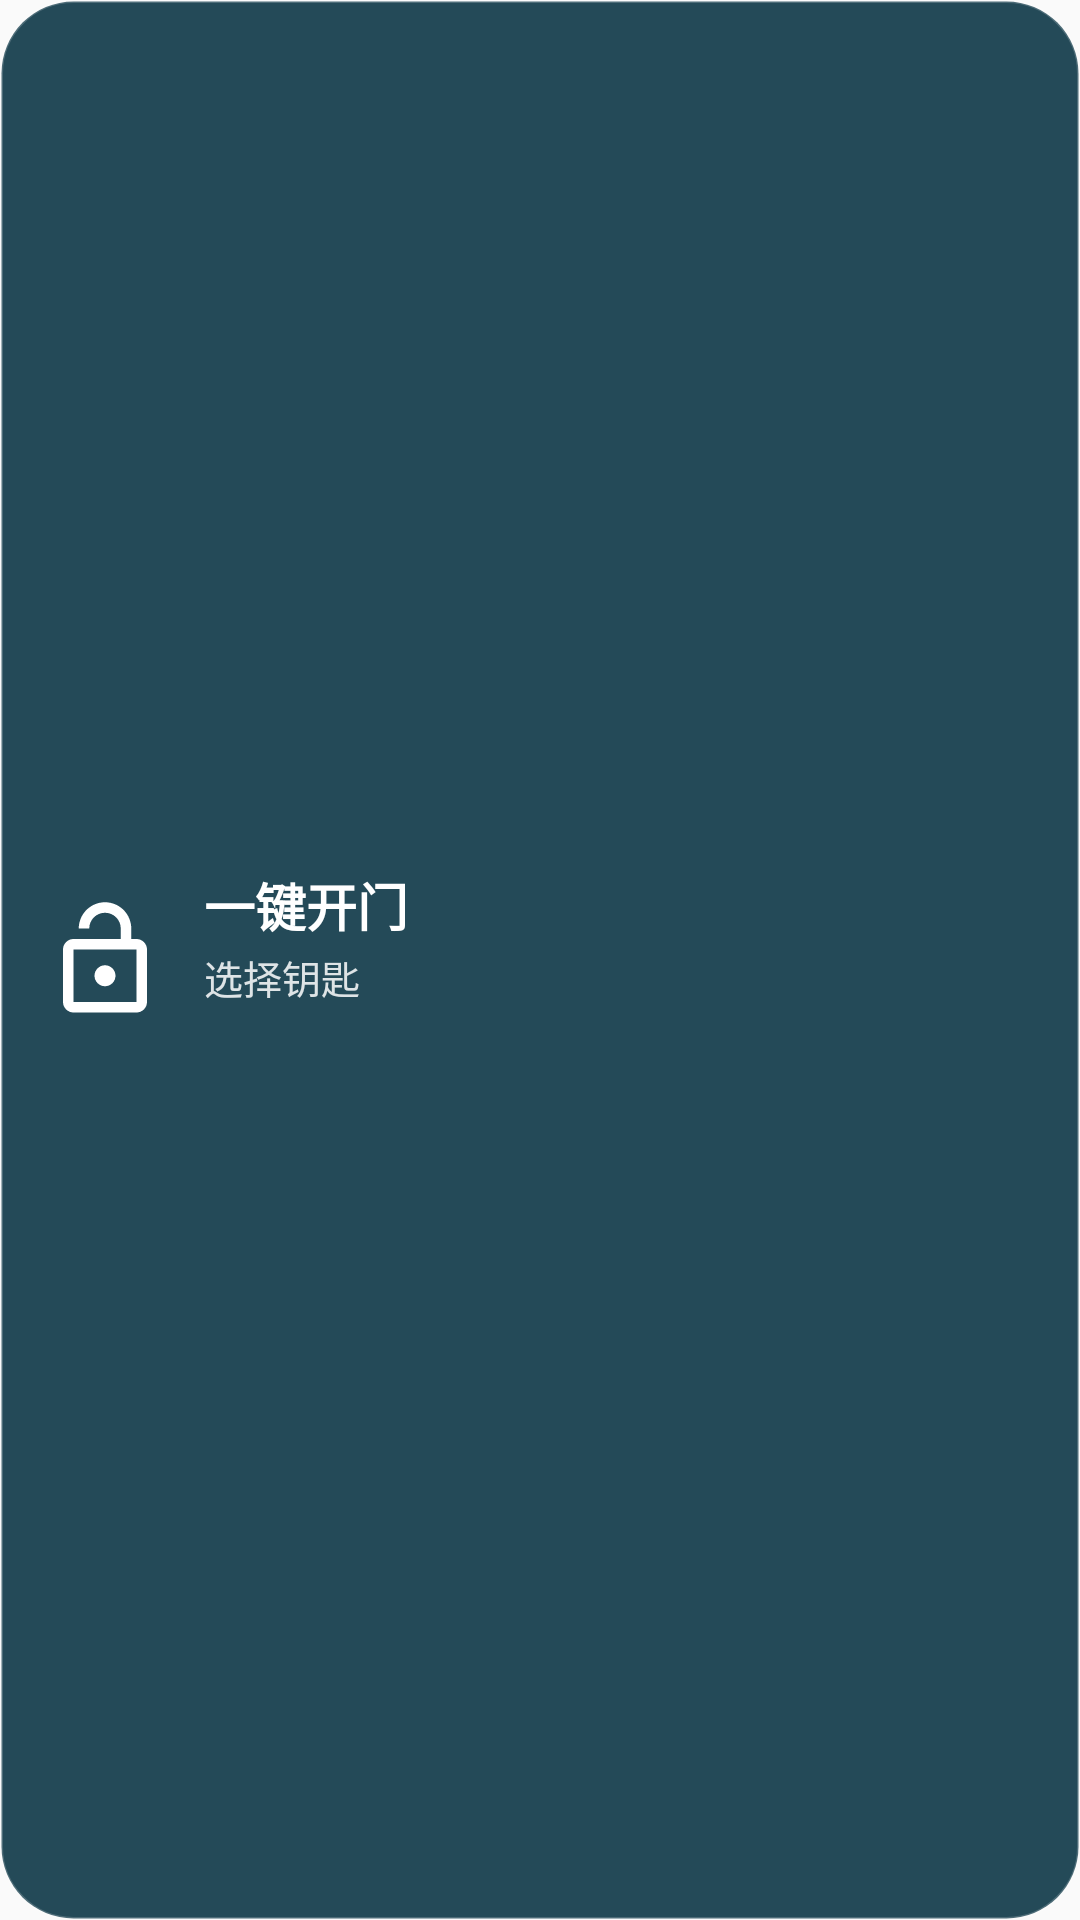

Screen size 1080*1920. Icon name, then its box in pixels as bbox=(x1, y1, x2, y2):
lock open: bbox=(63, 902, 147, 1013)
